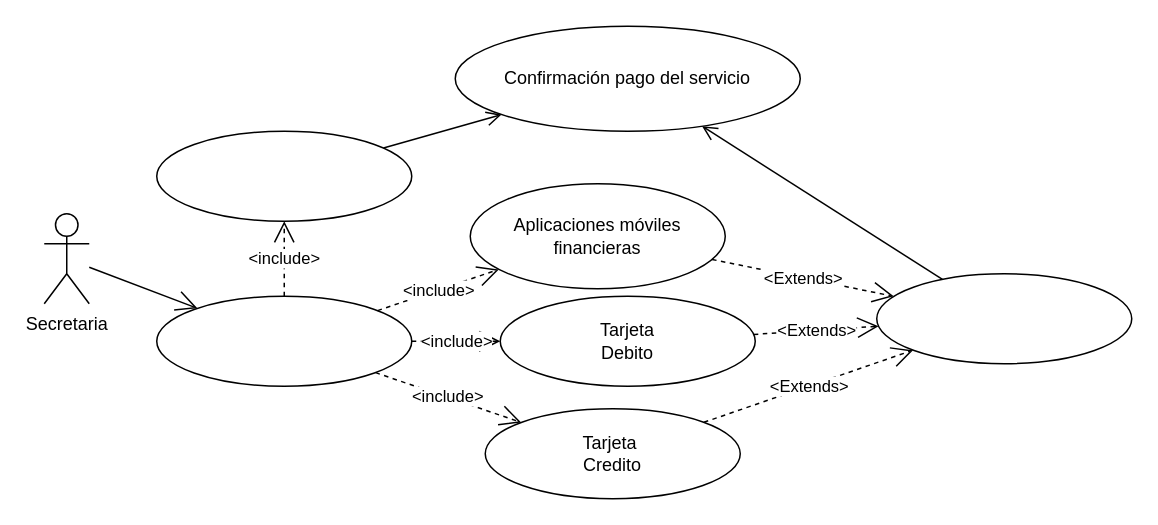
Some shapes in this 1158 by 525 pixel diagram are drawn without their labels. The centre of each missing label's shape, as x and y in pixels:
"Confirmación del banco" goes at pixel 1003 318.
"Efectivo" goes at pixel 283 175.
"Pago del servicio" goes at pixel 283 340.
